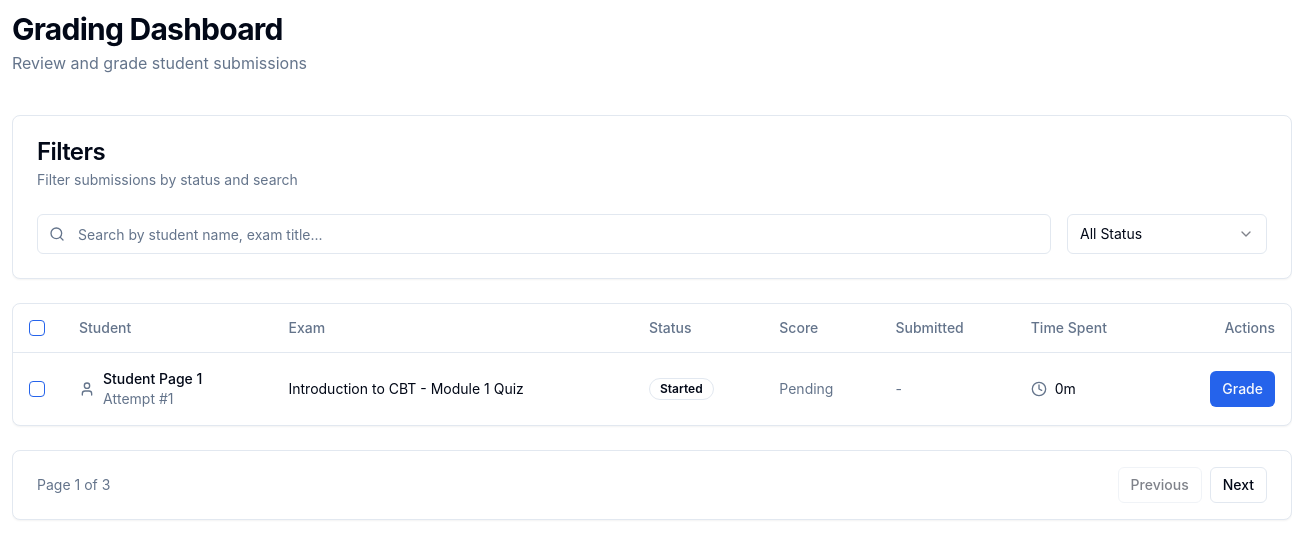
GradingPage › Pagination › should navigate to next page
This screenshot has width=1292, height=537.
Expected: the text "Student Page 1" is shown, top-left (103, 368), bottom-right (202, 388)
Click the button "Next": (1238, 484) top-left (1210, 466), bottom-right (1267, 502)
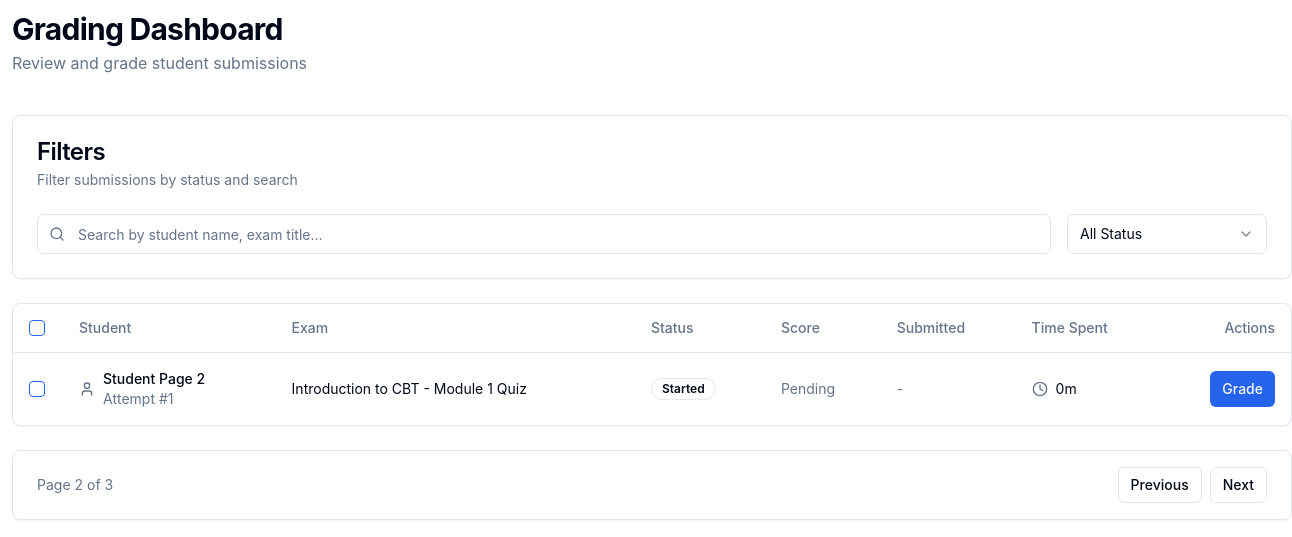
Expected: the text "Student Page 2" is shown, top-left (103, 368), bottom-right (205, 388)
